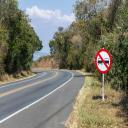NoUltrapassar: (94, 48, 112, 75)
